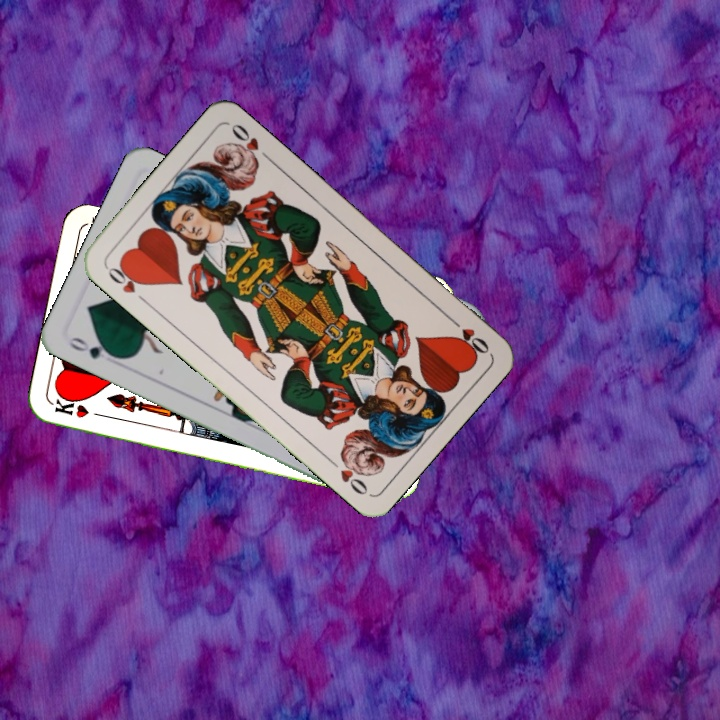GO: (65, 333, 121, 362)
HK: (50, 395, 109, 421)
HO: (102, 259, 151, 306), (443, 312, 492, 357)
